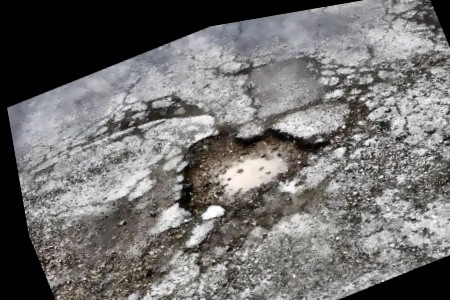pothole: (146, 87, 346, 239)
